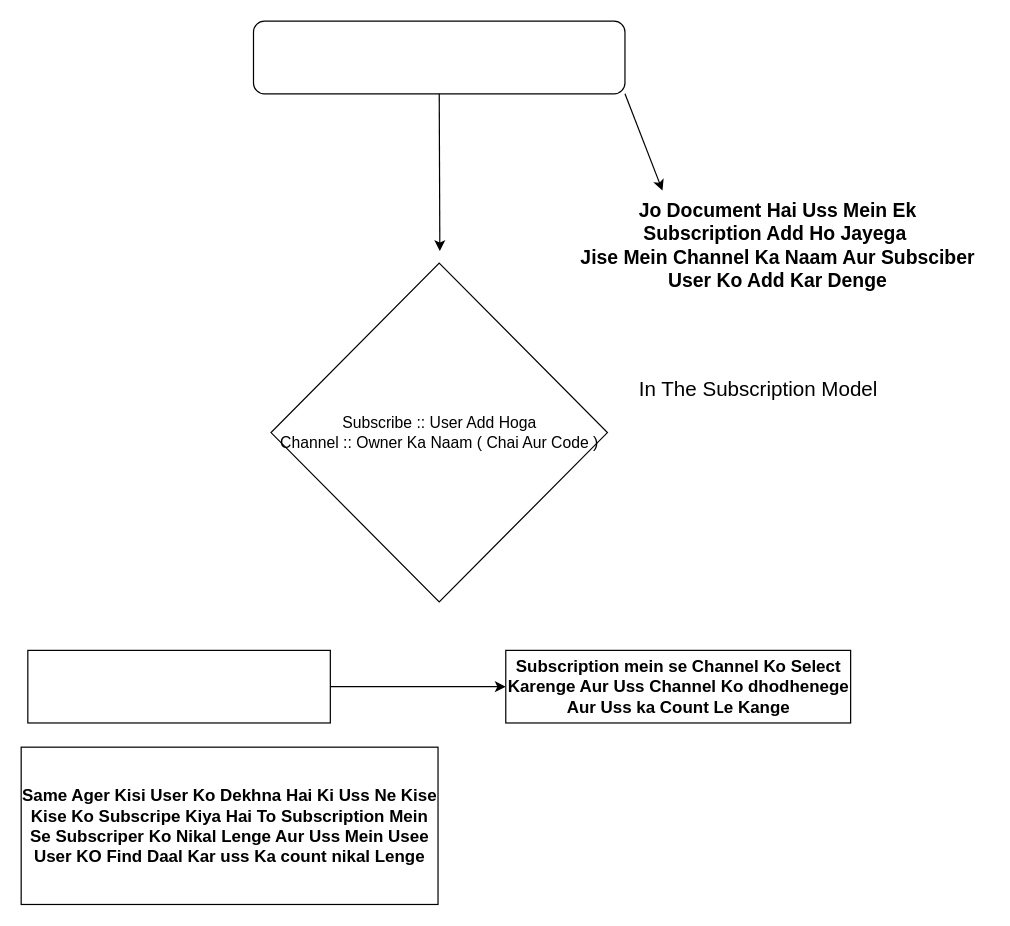
Image size: 1010x926. Some labels were removed from this diagram. Each missing label, with the box of its shape:
If User Subscribe The Channel: (252, 20, 625, 94)
Jab Kisi Channel Ke Subscriber Chahiye To ::: (27, 649, 330, 723)
